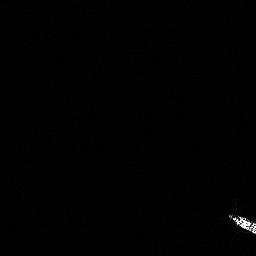ship: (230, 213, 256, 236)
